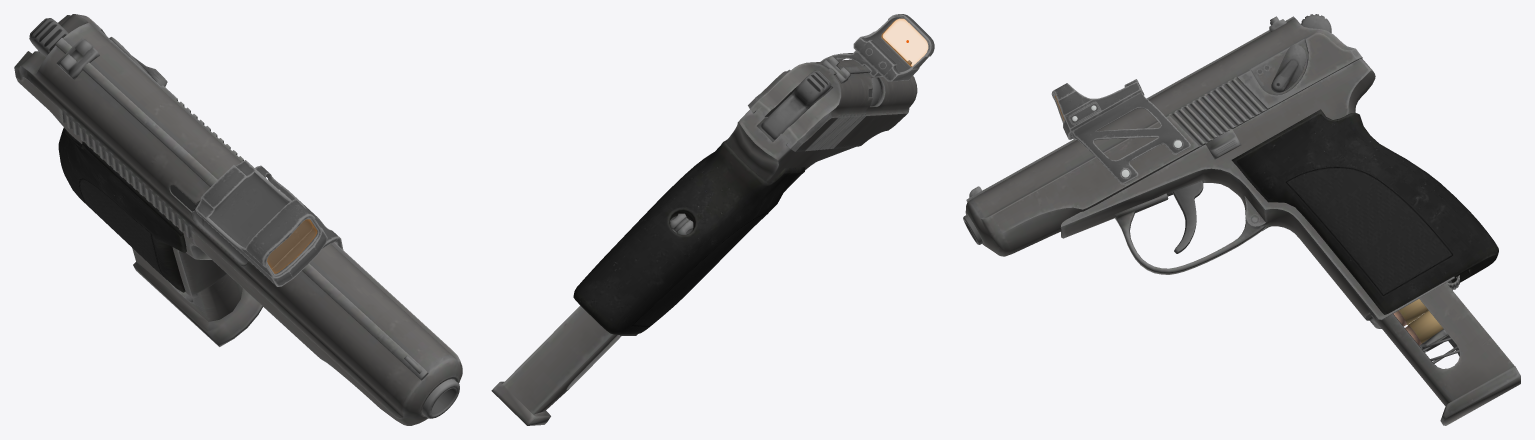
Rendered from fp_pistol.glb.
3 renders of one model, left to right at view 1: azimuth 30°, elevation 25°; view 2: azimuth 150°, elevation 25°; view 3: azimuth 270°, elevation 25°, orthographic. The views are drawn at different scales.
Parts seen in each view (by area): view 1: Object_14, Object_4, Object_12, Object_10, Object_8; view 2: Object_4, Object_14, Object_10, Object_12, Object_8; view 3: Object_4, Object_14, Object_10, Object_12, Object_18.
Part boxes in pixels (left/top/right/bottom): Object_14: left=14, top=14, right=462, bottom=425; Object_4: left=37, top=51, right=459, bottom=418; Object_12: left=195, top=160, right=343, bottom=286; Object_10: left=132, top=248, right=262, bottom=346; Object_8: left=29, top=18, right=68, bottom=56; Object_4: left=573, top=77, right=880, bottom=335; Object_14: left=748, top=56, right=917, bottom=151; Object_10: left=491, top=305, right=621, bottom=425; Object_12: left=820, top=14, right=934, bottom=81; Object_8: left=760, top=70, right=831, bottom=139; Object_4: left=963, top=58, right=1498, bottom=328; Object_14: left=965, top=16, right=1362, bottom=256; Object_10: left=1371, top=283, right=1520, bottom=425; Object_12: left=1051, top=79, right=1190, bottom=184; Object_18: left=1172, top=181, right=1203, bottom=253.
Bounding box in the file's own units: 0.1001 × 0.132 × 0.2072.
2 materials, 2 textured.
